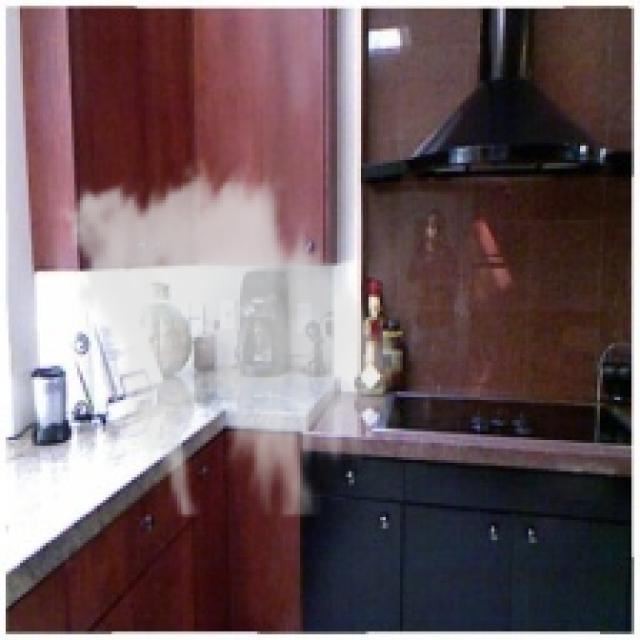smoke: (51, 157, 408, 517)
